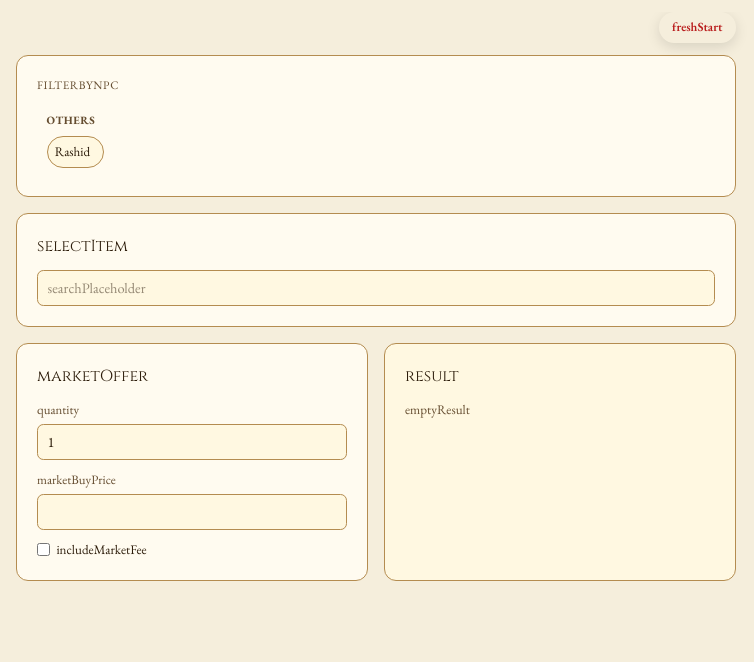
Scenario: TradeCalculator › filters and selects an item
In the field with placeholder "searchPlaceholder": (376, 288) x1=37 y1=270 x2=715 y2=306, type "gold"
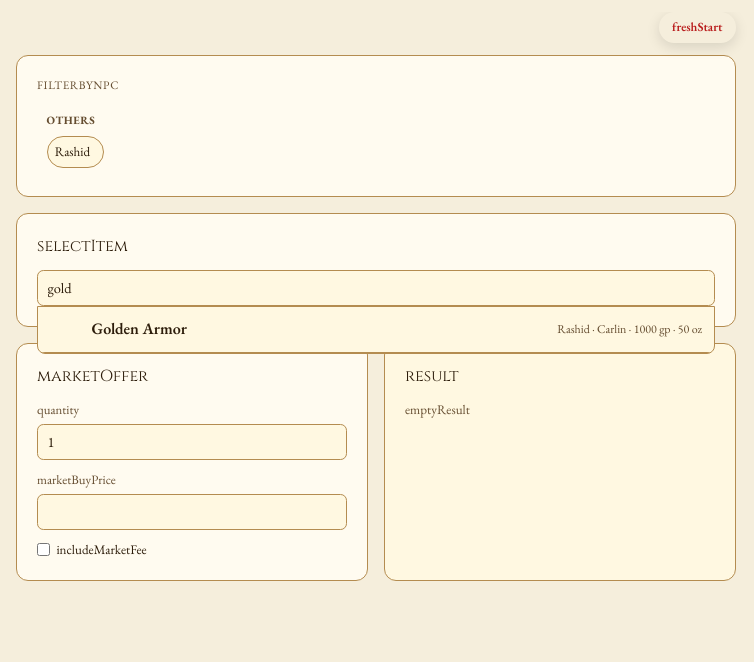
Result: the text "Golden Armor" is shown
Click the text "Golden Armor": (139, 329) x1=92 y1=318 x2=187 y2=339
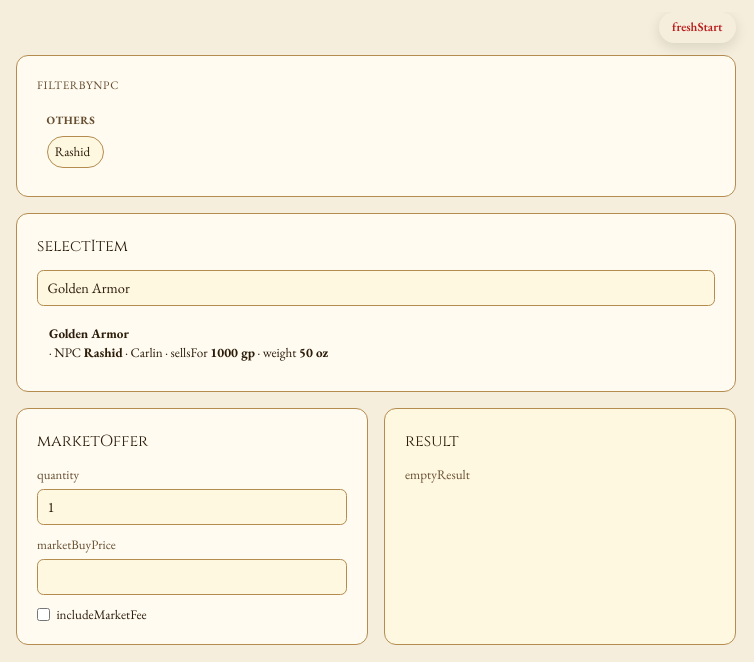
Result: the text "Golden Armor" is shown at x1=49 y1=324 x2=129 y2=342
Result: the list is gone
